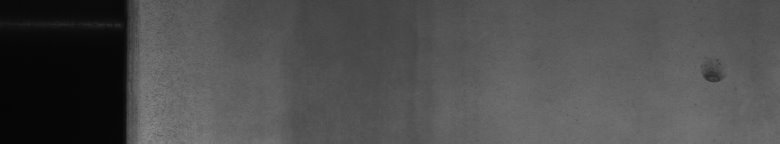fi: (697, 64, 727, 88)
